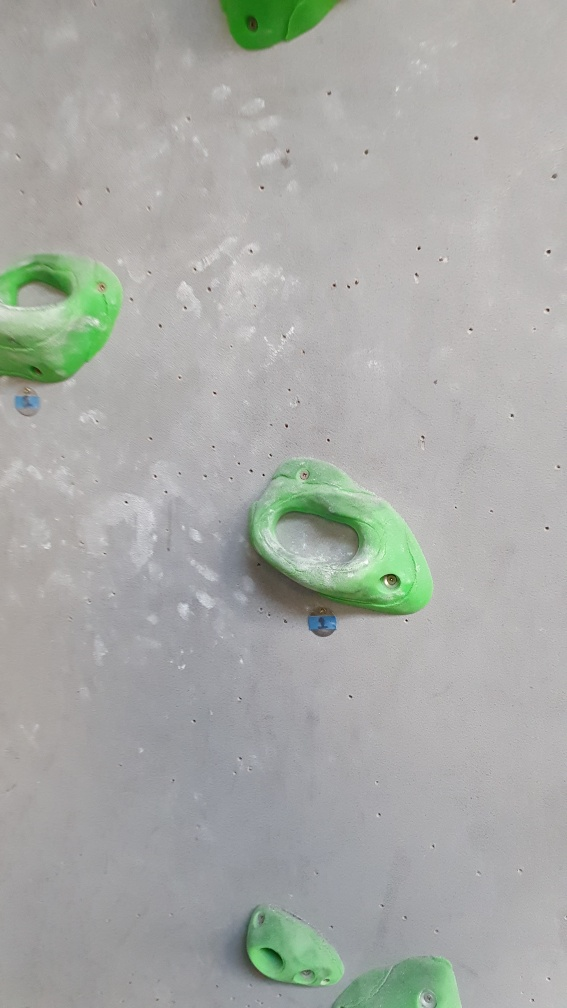Hand Start: (11, 383, 43, 424), (306, 603, 341, 639)
Pocket: (238, 456, 437, 621), (1, 250, 126, 384)
